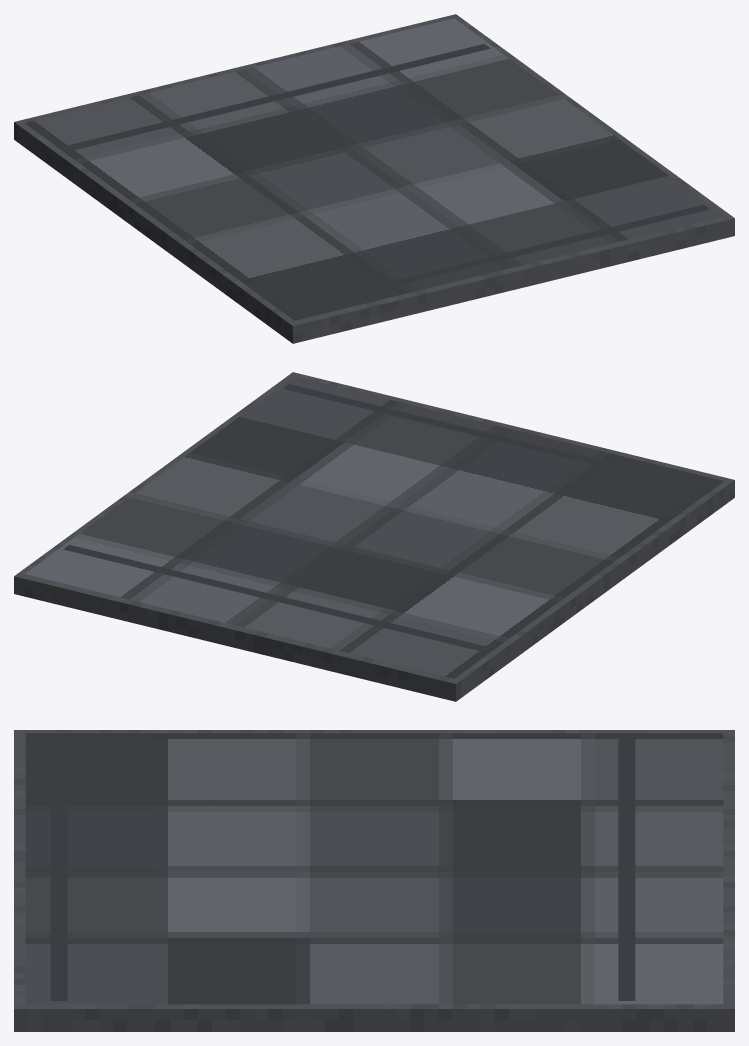
Rendered from sheet_nomex_patchwork.glb.
The picture shows the model from 3 angles, top to bottom: view 1: azimuth 30°, elevation 25°; view 2: azimuth 150°, elevation 25°; view 3: azimuth 270°, elevation 25°; orthographic projection. The views are drawn at different scales.
Visible parts, largest first — view 1: block_stitched patchwork, block_flat stock, block_edge crease (×2); view 2: block_stitched patchwork, block_flat stock, block_edge crease (×2); view 3: block_stitched patchwork, block_flat stock, block_edge crease (×2).
Part boxes in pixels (bbox=[...]): block_stitched patchwork: bbox=[25, 18, 723, 320]; block_flat stock: bbox=[14, 14, 734, 343]; block_edge crease (×2): bbox=[63, 44, 709, 311]; block_stitched patchwork: bbox=[25, 376, 723, 678]; block_flat stock: bbox=[14, 372, 734, 701]; block_edge crease (×2): bbox=[63, 384, 709, 652]; block_stitched patchwork: bbox=[25, 733, 723, 1004]; block_flat stock: bbox=[14, 730, 734, 1031]; block_edge crease (×2): bbox=[50, 735, 635, 1000].
Size of the model in its own units: 0.1215 by 0.00495 by 0.1328.
1 material, 1 textured.
